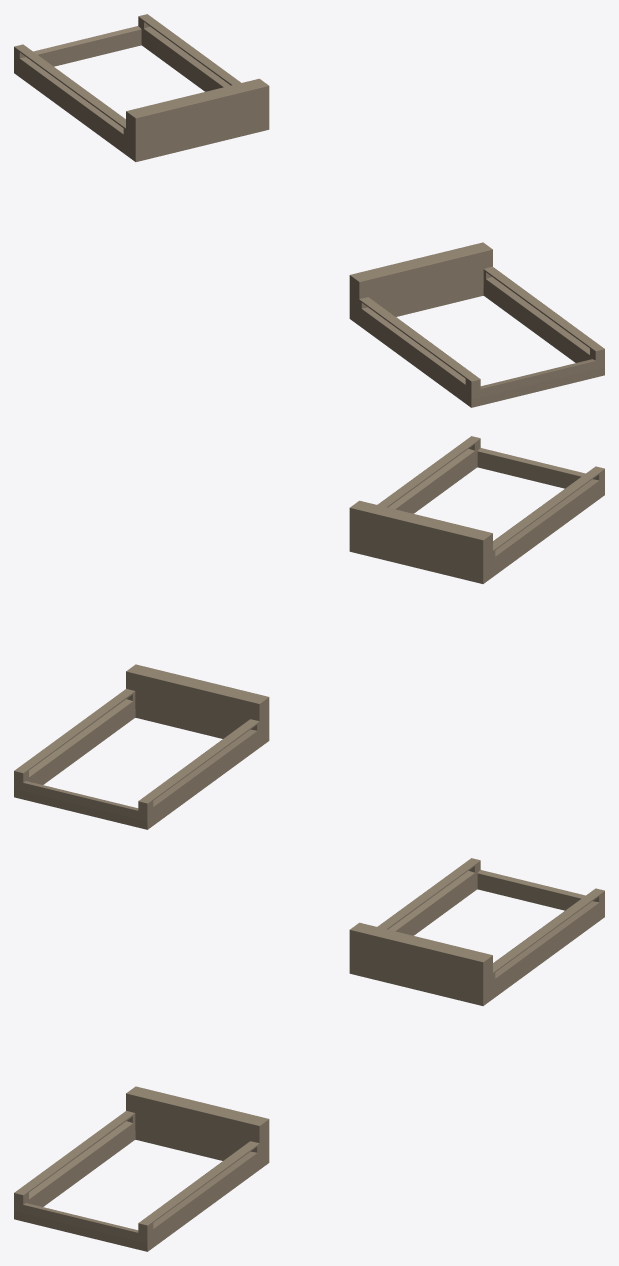
The model's file is MiddleStairWay.fbx.
3 renders of one model, top to bottom at view 1: azimuth 30°, elevation 25°; view 2: azimuth 150°, elevation 25°; view 3: azimuth 330°, elevation 25°, orthographic.
Parts seen in each view (by area): view 1: MidStairWay; view 2: MidStairWay; view 3: MidStairWay.
Part boxes in pixels (x1,y1,x2,y2): MidStairWay: [14, 14, 604, 407]; MidStairWay: [14, 436, 604, 829]; MidStairWay: [14, 858, 604, 1251].
Bounding box in the file's own units: 1071 × 339 × 6349.
